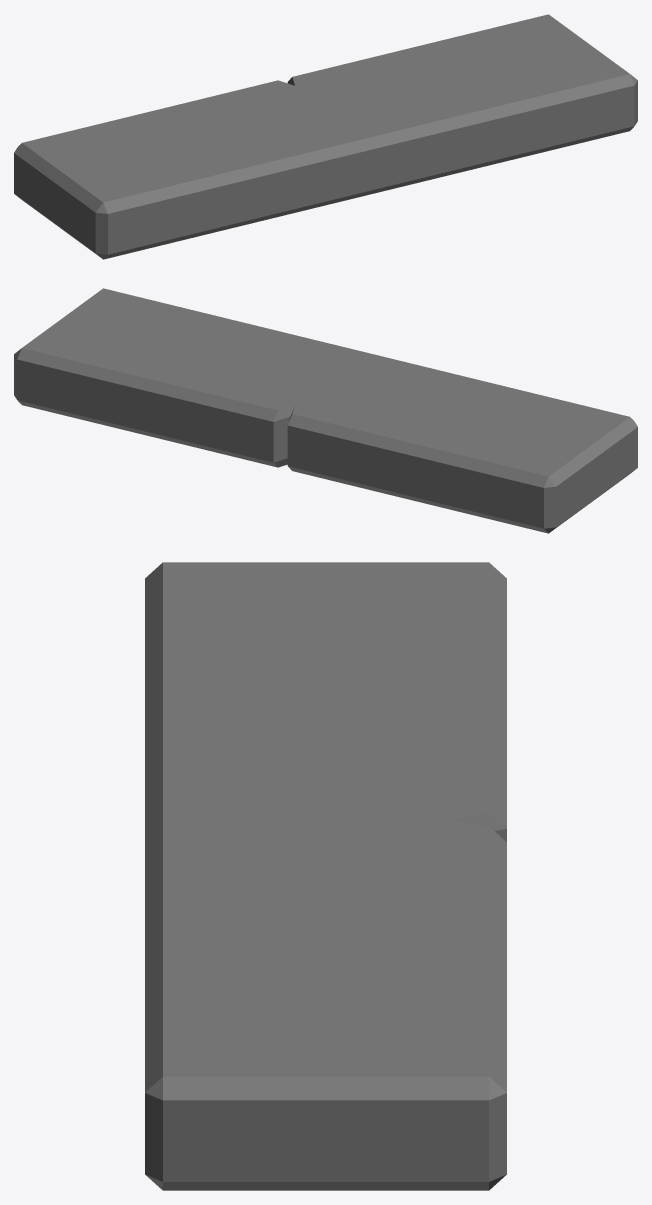
The model's file is Tile_05.fbx.
3 renders of one model, top to bottom at view 1: azimuth 30°, elevation 25°; view 2: azimuth 150°, elevation 25°; view 3: azimuth 270°, elevation 25°, orthographic. The views are drawn at different scales.
Parts seen in each view (by area): view 1: Tile_05; view 2: Tile_05; view 3: Tile_05.
Part boxes in pixels (x1,y1,x2,y2): Tile_05: (14,14,637,259); Tile_05: (14,288,637,533); Tile_05: (145,562,506,1190).
Size of the model in its own units: 1.81 by 0.1816 by 0.5222.
